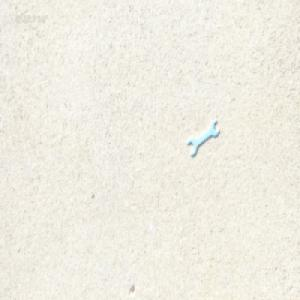Wrench: (188, 120, 219, 156)
